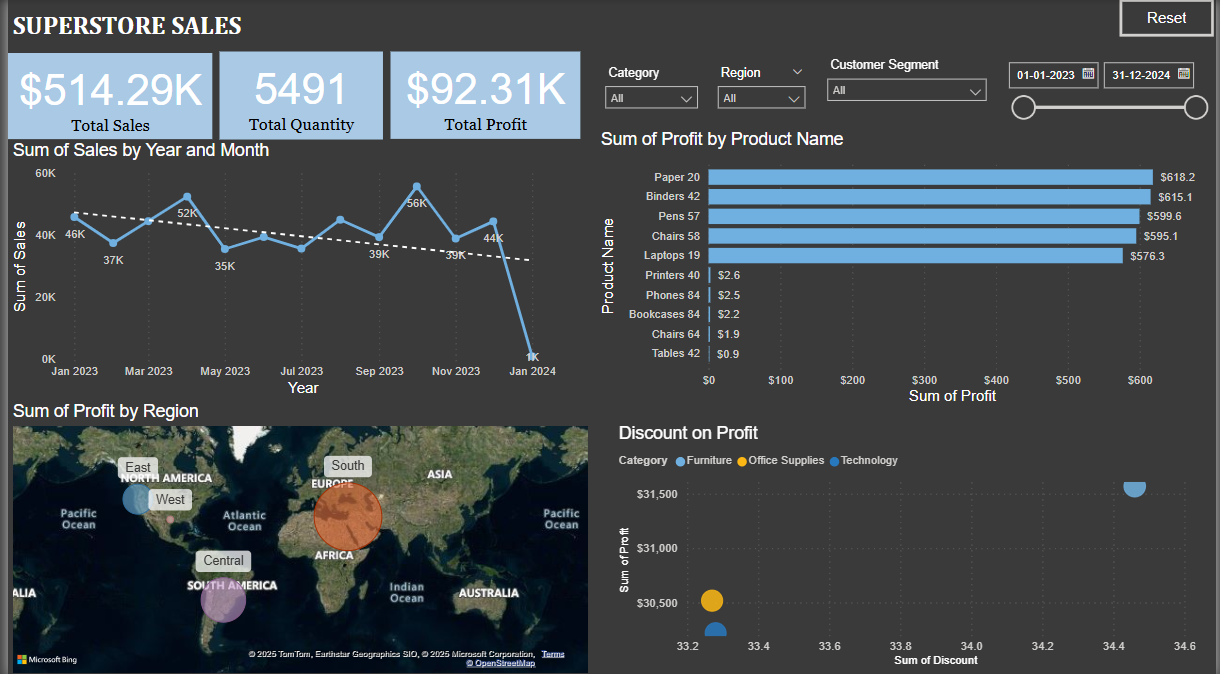

The dashboard page shown, as its layout file describes it:
{"tool":"powerbi","page":{"name":"Report","canvas":[1280,720],"ordinal":0},"visuals":[{"type":"card","fields":{"Values":["Sheet1.Total Sales"]},"box":[0,57.4,216.9,91.4],"z":0},{"type":"card","fields":{"Values":["Sheet1.Total Profit"]},"box":[405.6,56.4,201.3,92.4],"z":1000},{"type":"card","fields":{"Values":["Sheet1.Total Quantity"]},"box":[224.7,56.4,173.1,93.4],"z":2000},{"type":"lineChart","fields":{"Y":["Sum(Sheet1.Sales Amount)"],"Category":["DimDate.Date.Variation.Date Hierarchy.Year","DimDate.Date.Variation.Date Hierarchy.Month","DimDate.Date.Variation.Date Hierarchy.Day"]},"box":[0,149.8,585.5,276.2],"z":3000},{"type":"map","fields":{"Category":["Sheet1.Region"],"Size":["Sum(Sheet1.Profit)"]},"box":[0,426.3,619.7,293.7],"z":4000},{"type":"clusteredBarChart","fields":{"Y":["Sum(Sheet1.Profit)"],"Category":["Sheet1.Product Name"]},"box":[624.2,138.3,655.3,296.2],"z":5000},{"type":"scatterChart","title":"Discount on Profit","fields":{"X":["Sum(Sheet1.Discount)"],"Y":["Sum(Sheet1.Profit)"],"Size":["Sum(Sheet1.Sales Amount)"],"Series":["Sheet1.Category"]},"box":[642.9,449.6,621.6,262.5],"z":6000},{"type":"slicer","fields":{"Values":["DimDate.Date"]},"box":[1048.1,56.7,232.3,74.5],"z":7000},{"type":"slicer","fields":{"Values":["Sheet1.Region"]},"box":[742.2,64.7,112.6,60.3],"z":8000},{"type":"slicer","fields":{"Values":["Sheet1.Customer Segment"]},"box":[859.2,57.6,188.9,67.4],"z":9000},{"type":"slicer","fields":{"Values":["Sheet1.Category"]},"box":[624.2,64.7,117.9,60.3],"z":10000},{"type":"textbox","box":[0,6.8,271.4,43.8],"z":11000},{"type":"actionButton","box":[1179.3,0,100.2,39.9],"z":11001}]}

Visuals, with their boxes in screenshot pixels (x1, y1, x2, y2), scaled from the page's 1280x720 canvas onto the 1220x674 screenshot:
card - Sheet1.Total Sales: (0, 54, 207, 139)
card - Sheet1.Total Profit: (387, 53, 578, 139)
card - Sheet1.Total Quantity: (214, 53, 379, 140)
lineChart - Sum(Sheet1.Sales Amount) x DimDate.Date.Variation.Date Hierarchy.Year: (0, 140, 558, 399)
map - Sheet1.Region x Sum(Sheet1.Profit): (0, 399, 591, 673)
clusteredBarChart - Sum(Sheet1.Profit) x Sheet1.Product Name: (595, 129, 1219, 407)
"Discount on Profit" scatterChart: (613, 421, 1205, 667)
slicer - DimDate.Date: (999, 53, 1219, 123)
slicer - Sheet1.Region: (707, 61, 815, 117)
slicer - Sheet1.Customer Segment: (819, 54, 999, 117)
slicer - Sheet1.Category: (595, 61, 707, 117)
textbox: (0, 6, 259, 47)
actionButton: (1124, 0, 1219, 37)
